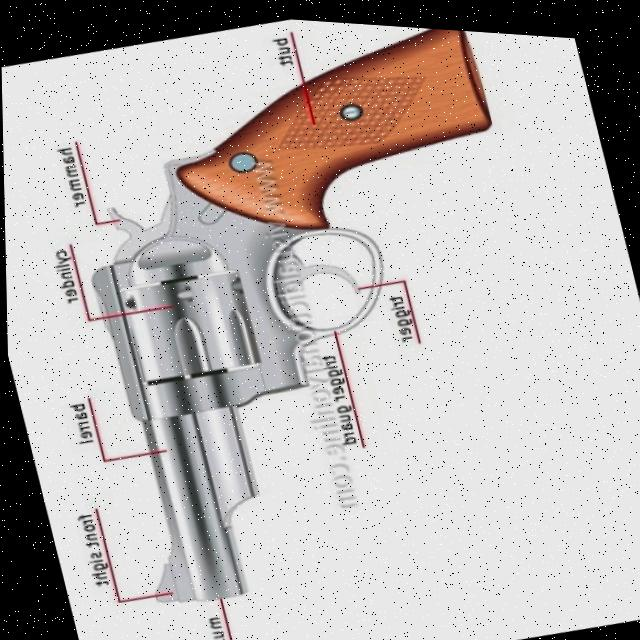pistol: (19, 1, 603, 633)
